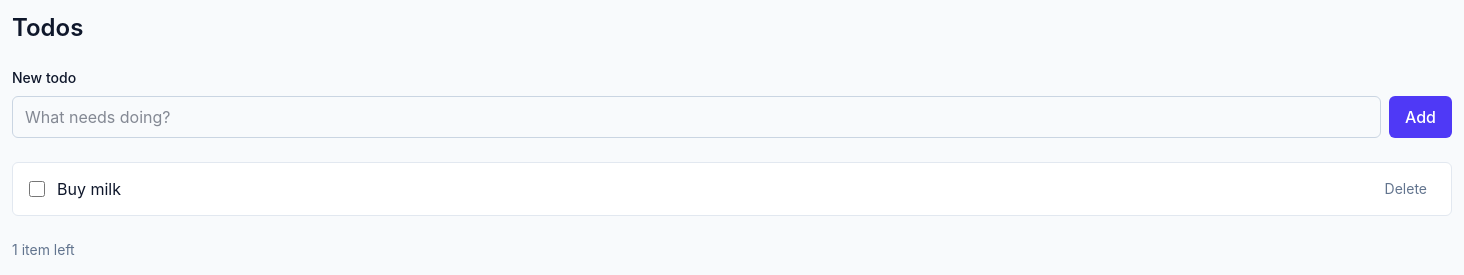
Scenario: TodosPage › Scenario: Complete a todo — toggles immediately and persists via PATCH
Step 1. Click the checkbox labelled "Buy milk" → click(37, 189), box [29,181,45,197]
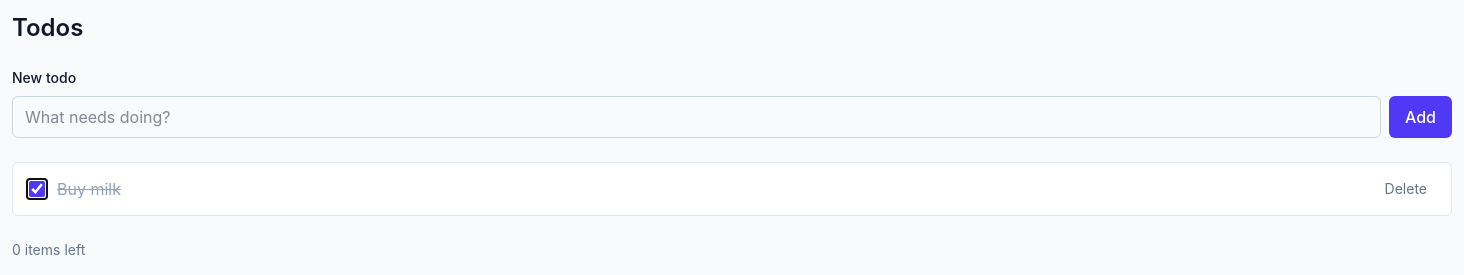
Result: the checkbox labelled "Buy milk" is checked at [29,181,45,197]
Result: the text "0 items left" is shown at [12,241,85,258]
